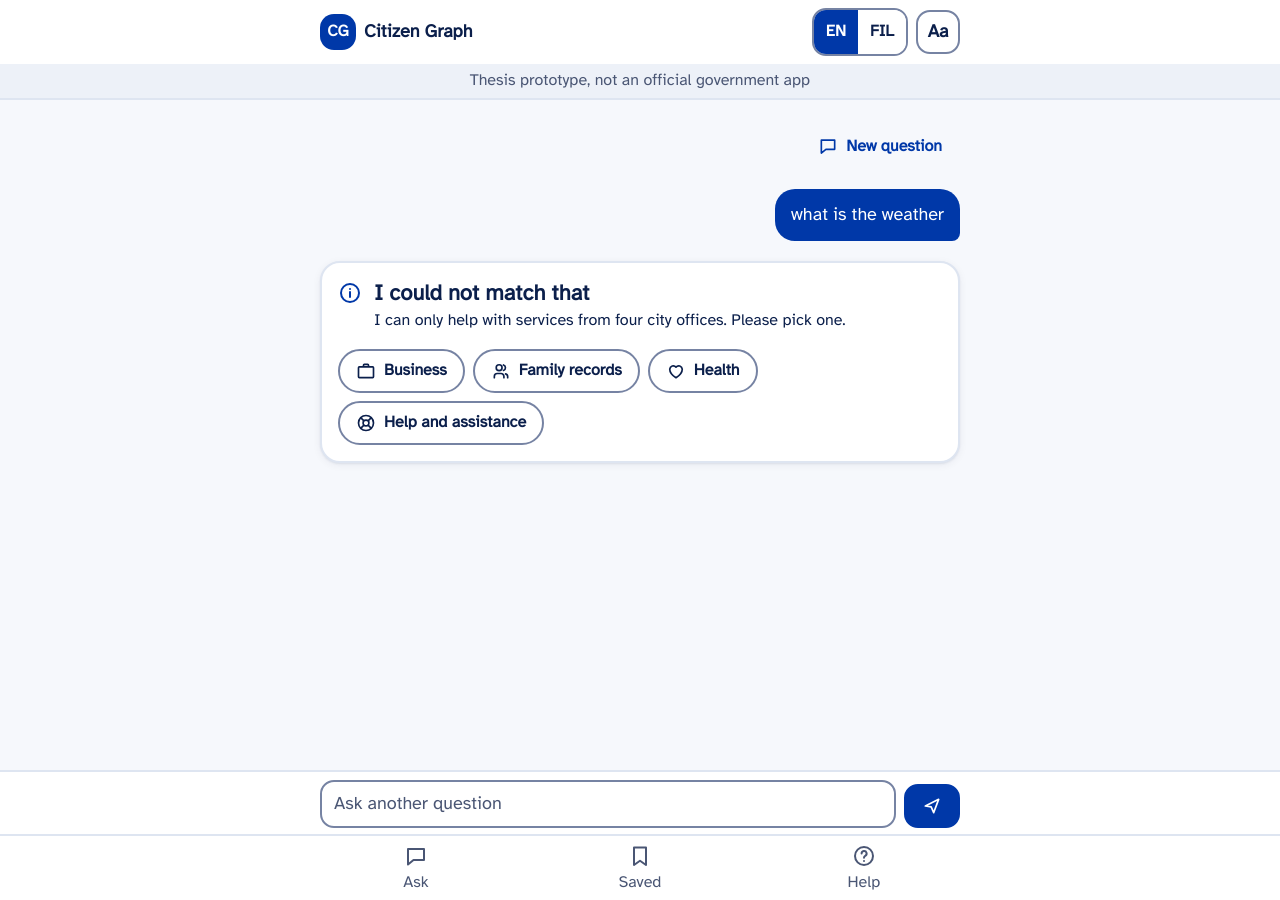
clarify and fallback flows › fallback: never a dead end. A topic chip leads to services, then to an answer
Expected: the heading "I could not match that" is shown, [374,279,590,306]
Click the button "Health": (703, 371) [648,349,758,393]
(page scrolled)
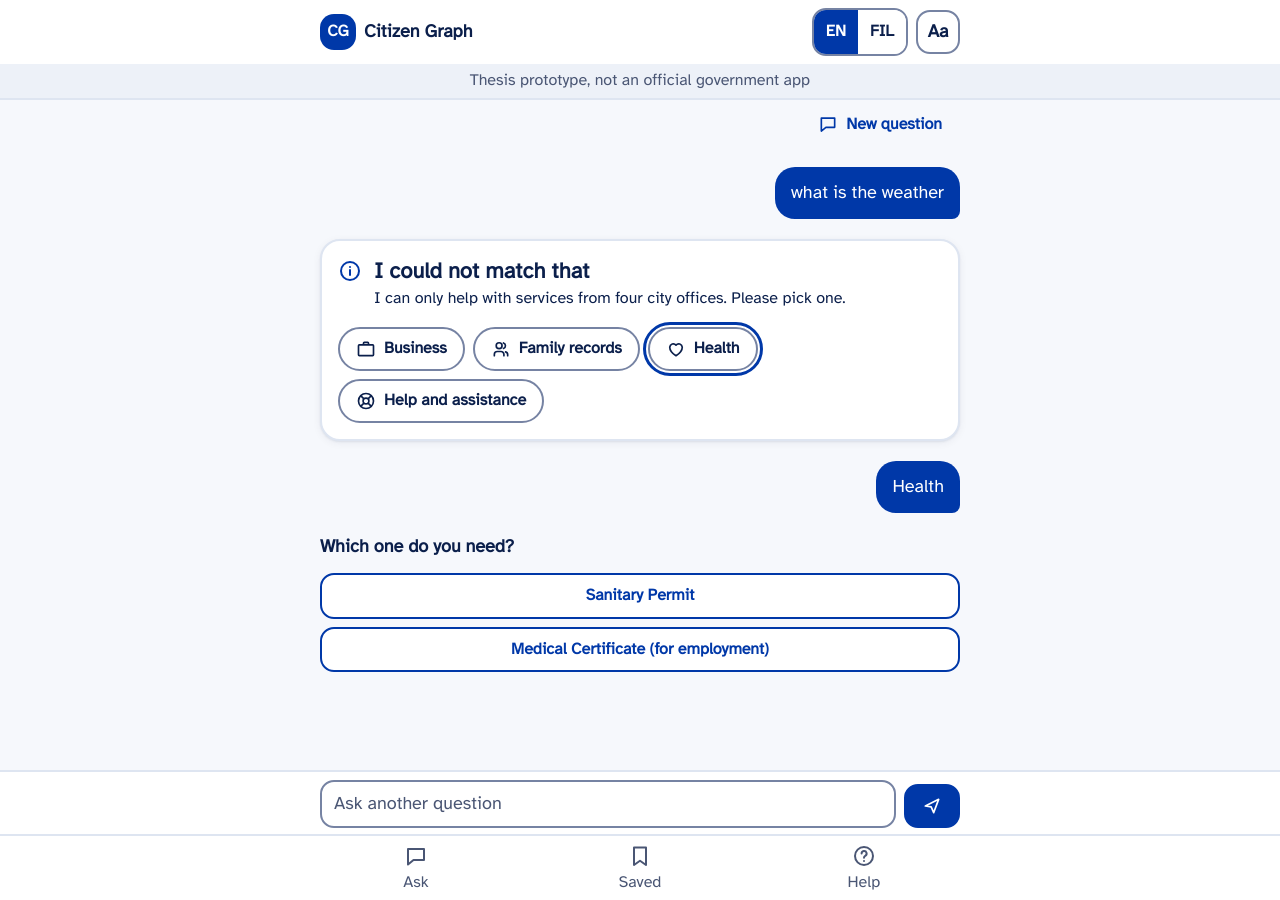
Click the button "Medical Certificate (for employment)": (640, 649) [320,627,960,672]
(page scrolled)
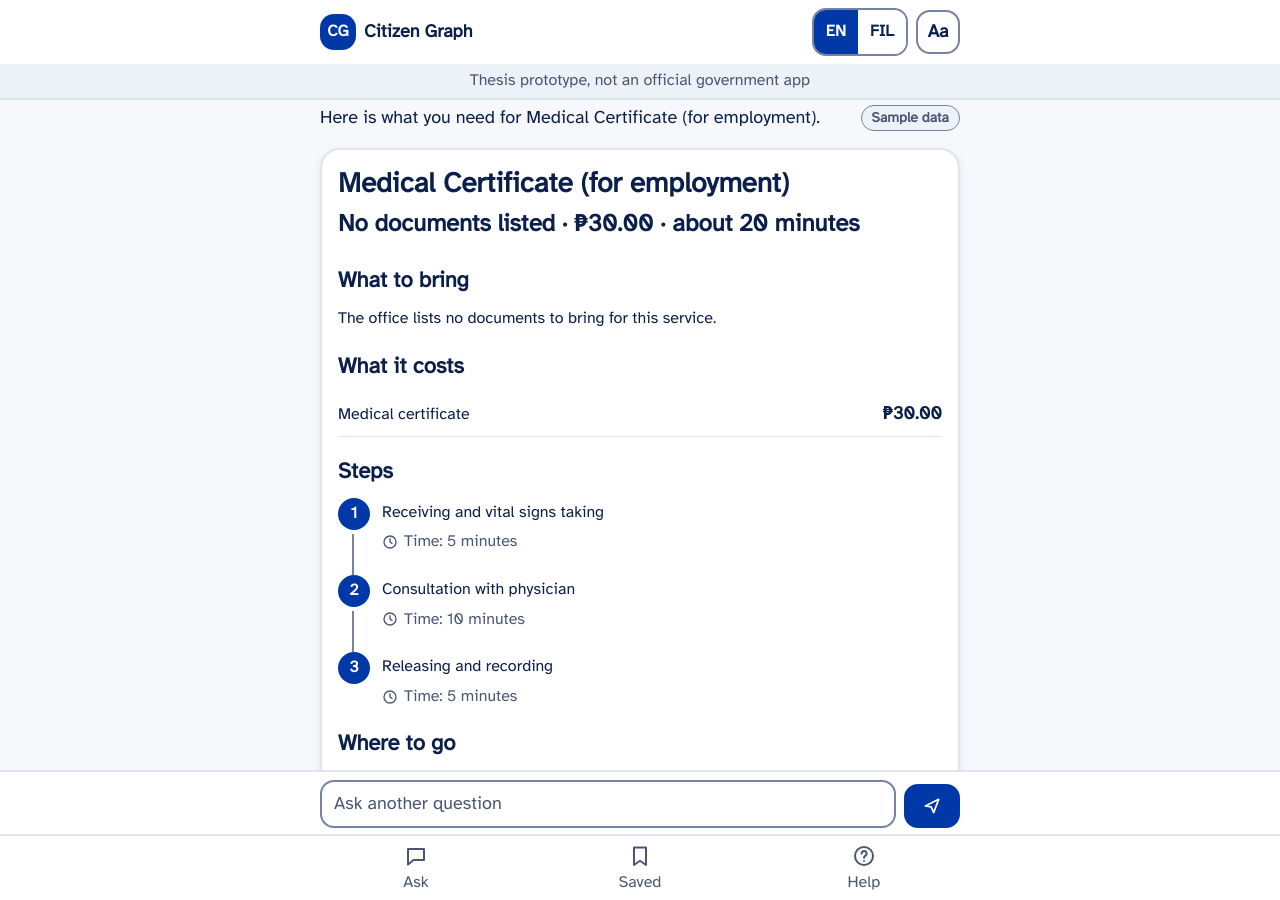
Now the element "Medical Certificate (for employment)" is shown, box [320,148,960,832]
